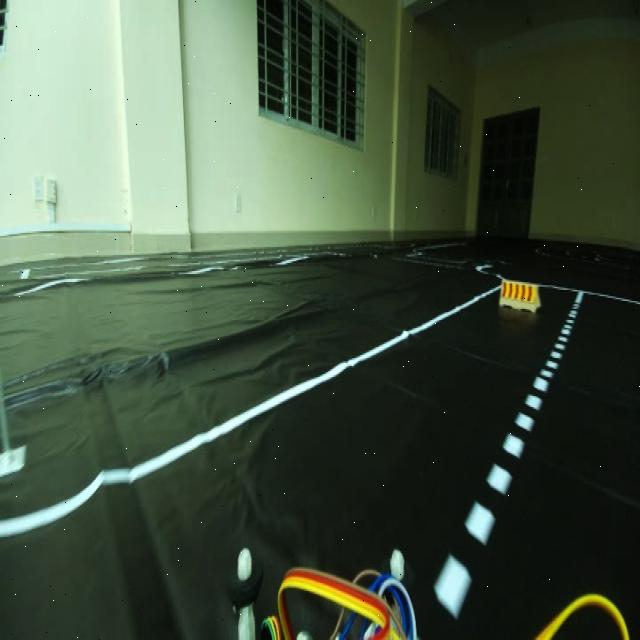roadblock: (497, 272, 541, 313)
